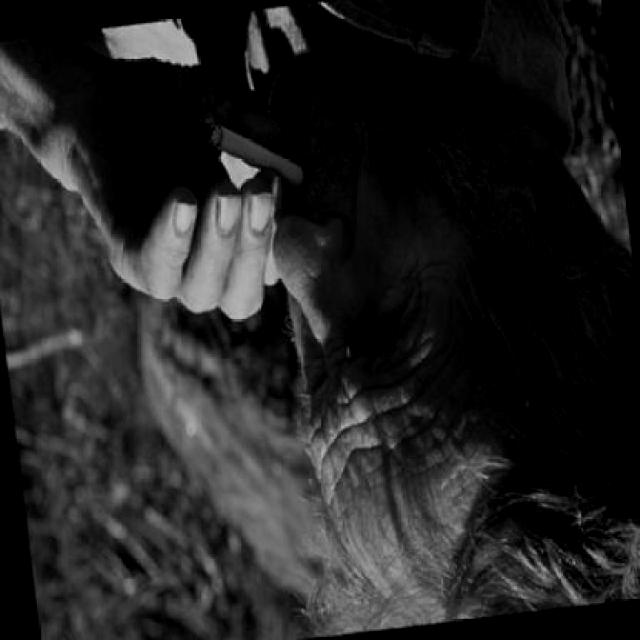smoke: (198, 105, 304, 204)
